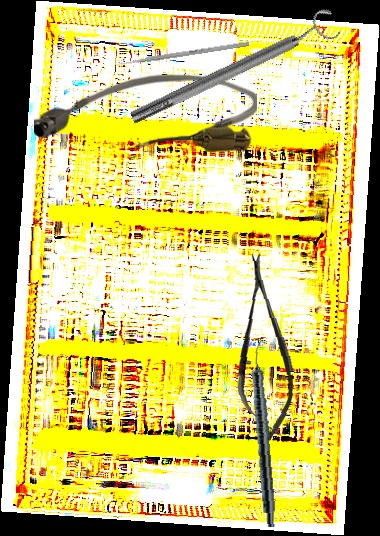Cannula: (34, 73, 257, 152)
Fixation Ring: (123, 5, 344, 133)
Handpiece: (247, 337, 281, 528)
Micro Scissor: (231, 251, 297, 443)
Pusher: (109, 41, 250, 68)
